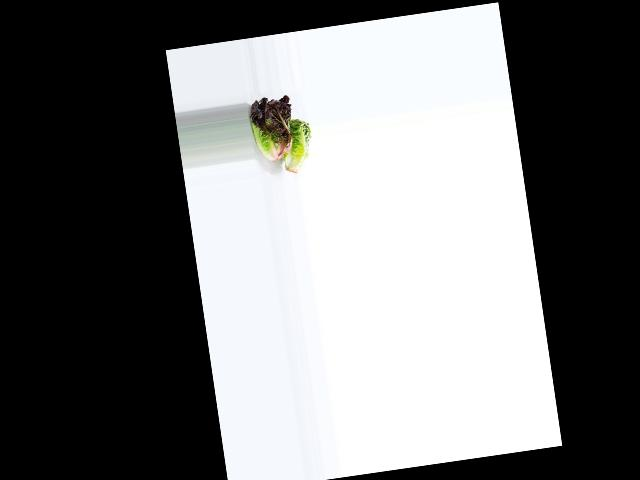lettuce: (276, 116, 317, 176)
